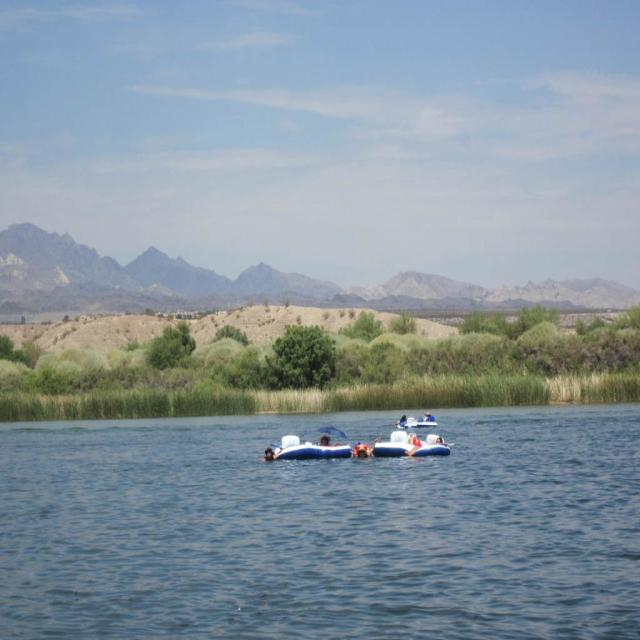Boat: (368, 438, 450, 462), (274, 433, 353, 457), (396, 410, 436, 429)
